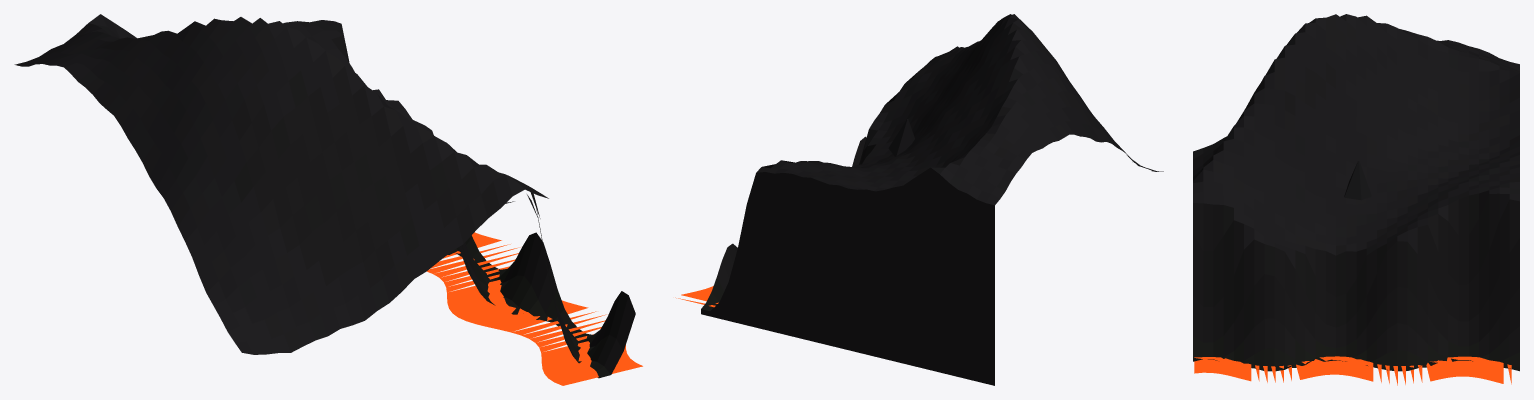
File: chunk-3-0.glb
3 views of the same model, side by side, from view 1: azimuth 30°, elevation 25°; view 2: azimuth 150°, elevation 25°; view 3: azimuth 270°, elevation 25° (orthographic). The views are drawn at different scales.
Parts seen in each view (by area): view 1: Mountain_Rock, Cliff_Rock, Lava, Ash_Ground; view 2: Cliff_Rock, Mountain_Rock; view 3: Mountain_Rock, Cliff_Rock, Ash_Ground, Lava.
Boxes of the visible parts, x1=… form: Mountain_Rock: x1=14, y1=14, x2=548, y2=354; Cliff_Rock: x1=232, y1=35, x2=635, y2=374; Lava: x1=427, y1=232, x2=642, y2=385; Ash_Ground: x1=447, y1=235, x2=610, y2=378; Cliff_Rock: x1=701, y1=40, x2=1067, y2=385; Mountain_Rock: x1=756, y1=14, x2=1163, y2=205; Mountain_Rock: x1=1193, y1=14, x2=1519, y2=268; Cliff_Rock: x1=1193, y1=62, x2=1519, y2=361; Ash_Ground: x1=1193, y1=336, x2=1519, y2=371; Lava: x1=1194, y1=356, x2=1511, y2=385.
Size of the model in its own units: 88.98 by 70.02 by 80.
